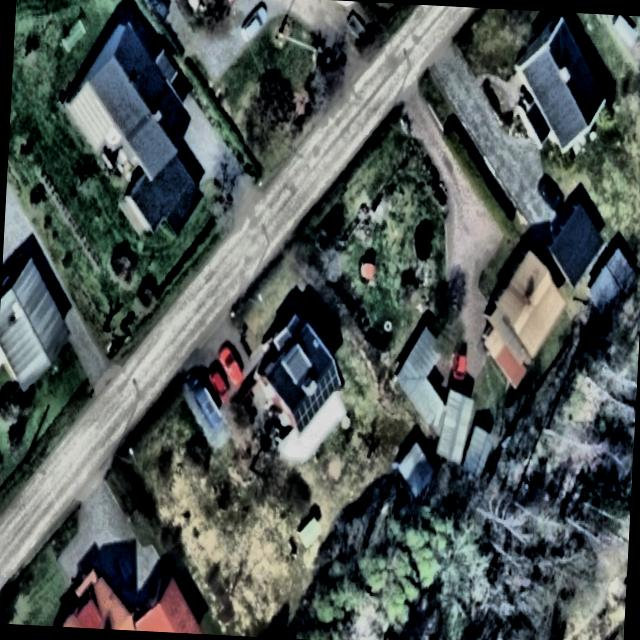roof_pv: (294, 357, 343, 429)
